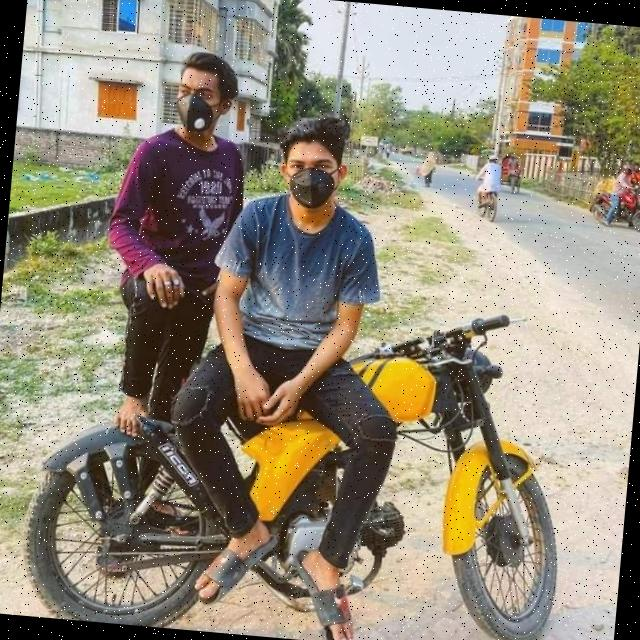No helmet: (266, 115, 358, 212)
